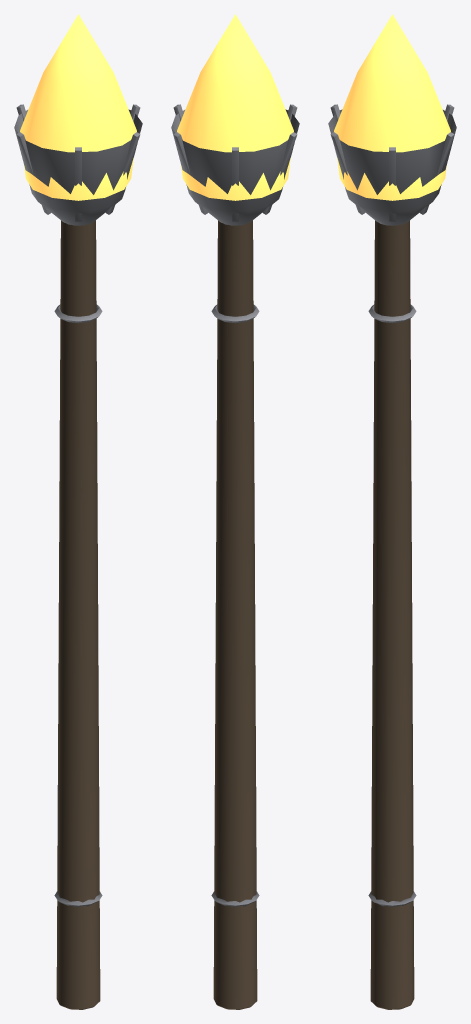
The model's file is dh_torch.glb.
The picture shows the model from 3 angles, left to right: view 1: azimuth 30°, elevation 25°; view 2: azimuth 210°, elevation 25°; view 3: azimuth 330°, elevation 25°; orthographic projection.
Parts seen in each view (by area): view 1: dh_torch, flame; view 2: dh_torch, flame; view 3: dh_torch, flame.
Boxes of the visible parts, box(x1,y1,x2,y2) form: dh_torch: box(14, 104, 142, 1009); flame: box(20, 14, 136, 200); dh_torch: box(171, 104, 299, 1009); flame: box(177, 14, 293, 200); dh_torch: box(328, 104, 456, 1009); flame: box(334, 14, 450, 200).
Size of the model in its own units: 0.4752 by 3.72 by 0.429.
